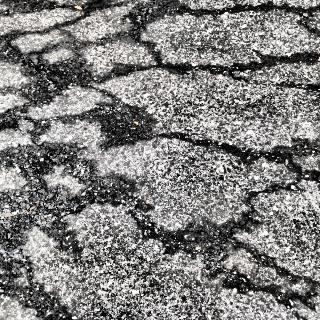alligator-crack: (0, 0, 198, 107), (0, 131, 145, 228)
crack: (194, 260, 312, 307), (170, 136, 279, 163), (220, 56, 320, 77), (238, 179, 262, 241), (217, 4, 320, 18)
